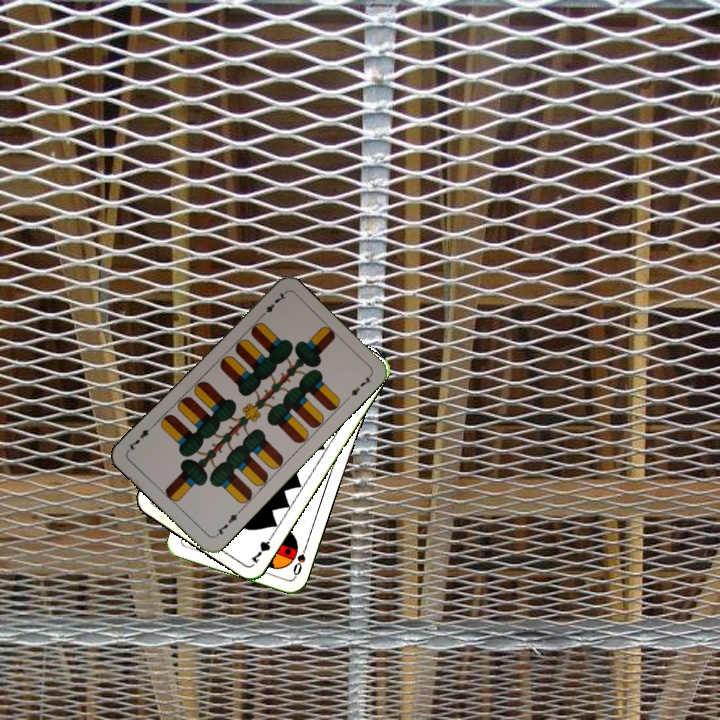E7: (256, 288, 288, 321), (211, 507, 243, 539)
G7: (246, 529, 276, 566)
SO: (289, 539, 310, 579)
